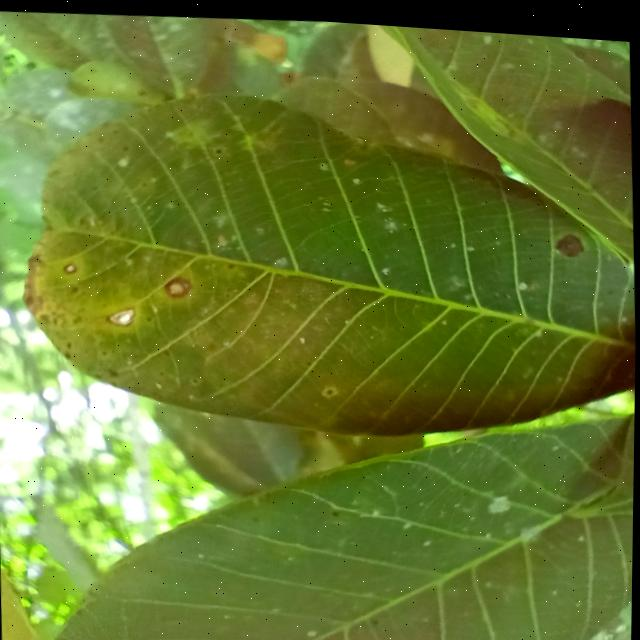Colletotrichum: (164, 273, 193, 297), (555, 225, 584, 249), (105, 304, 136, 326), (62, 260, 79, 274)
